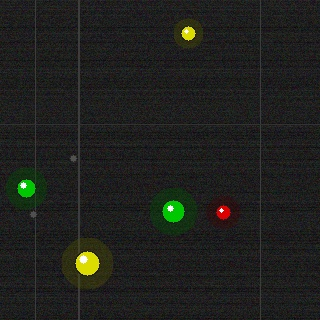green_normal: (160, 198, 186, 224), (15, 177, 37, 199)
red_fault: (214, 203, 232, 221)
yellow_warning: (73, 249, 101, 277), (179, 24, 197, 42)
